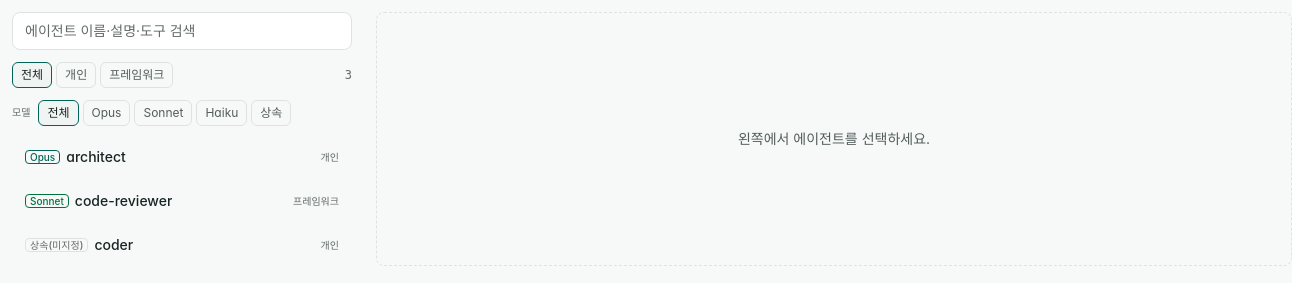
Test case: AgentCatalog 필터 › 검색어로 좁힐 수 있다
In the search field named "에이전트 검색": (182, 31) [12,12,352,50], type "reviewer"
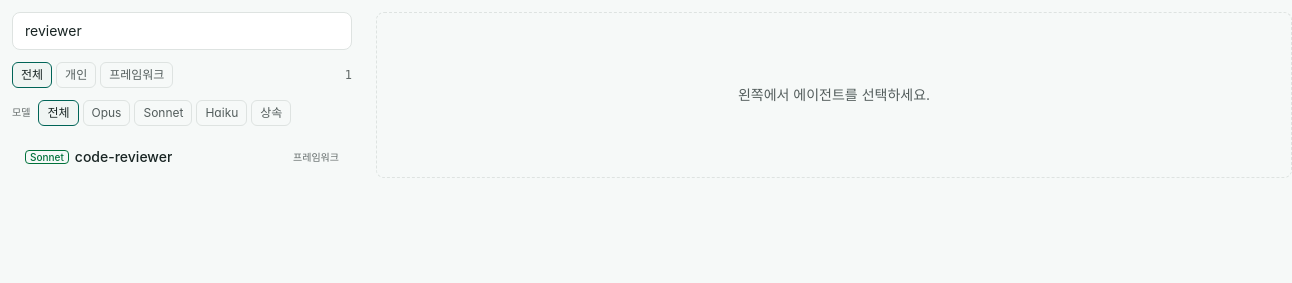
expect the text "code-reviewer" is shown: met, box [75,147,172,167]
expect the button "architect" is gone: met
